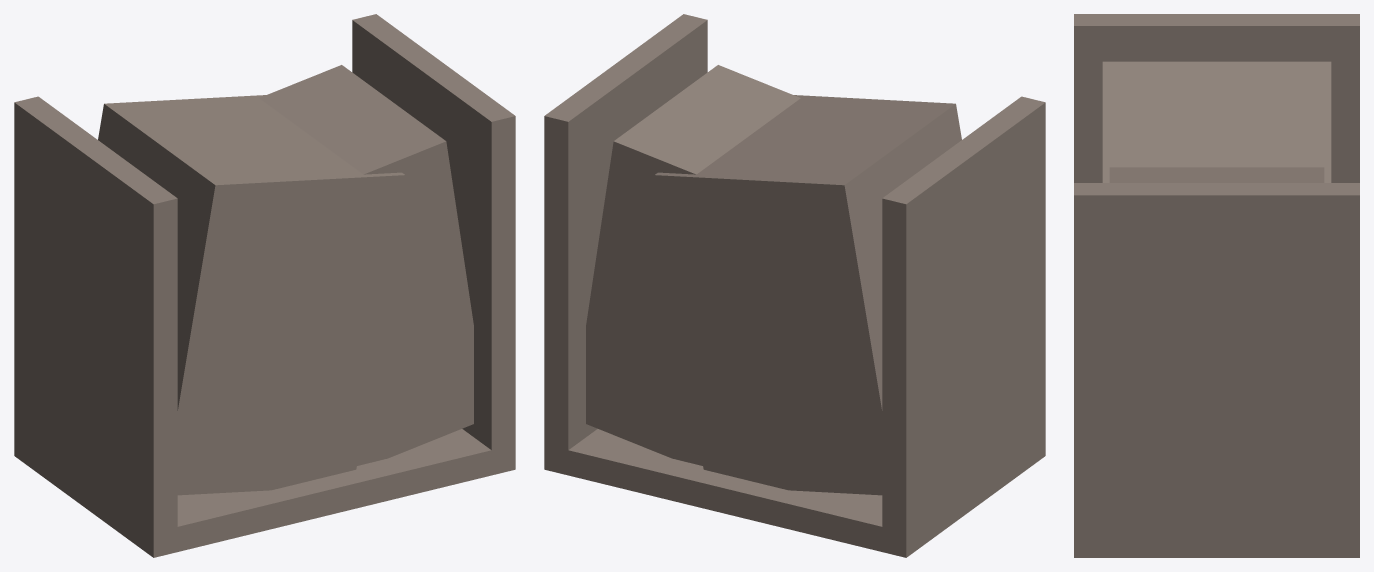
File: sub_revisteiro.glb
The picture shows the model from 3 angles, left to right: view 1: azimuth 30°, elevation 25°; view 2: azimuth 150°, elevation 25°; view 3: azimuth 270°, elevation 25°; orthographic projection. The views are drawn at different scales.
Visible parts, largest first — view 1: SUB_Revisteiro_v01; view 2: SUB_Revisteiro_v01; view 3: SUB_Revisteiro_v01.
Boxes of the visible parts, box(x1,y1,x2,y2) form: SUB_Revisteiro_v01: box(14, 14, 515, 557); SUB_Revisteiro_v01: box(544, 14, 1045, 557); SUB_Revisteiro_v01: box(1074, 14, 1359, 557).
Bounding box in the file's own units: 0.3 × 0.28 × 0.2.
